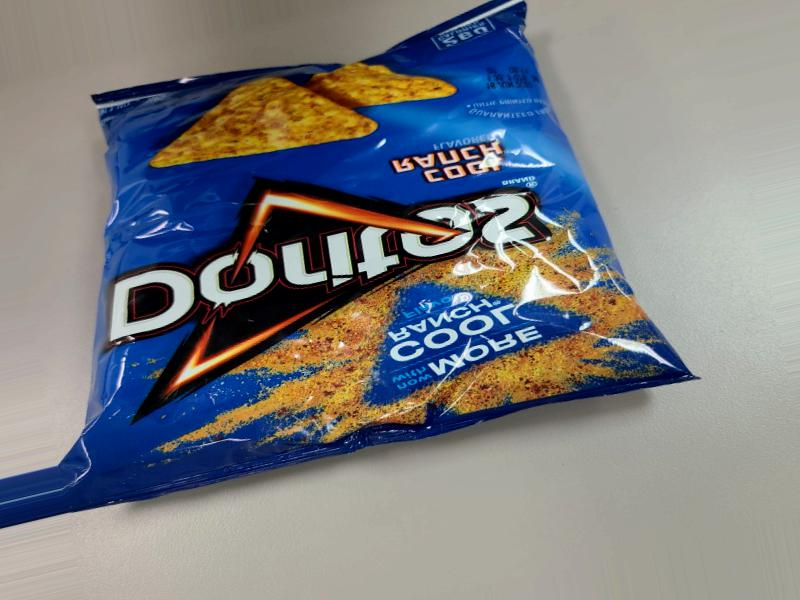doritos: (3, 0, 702, 542)
